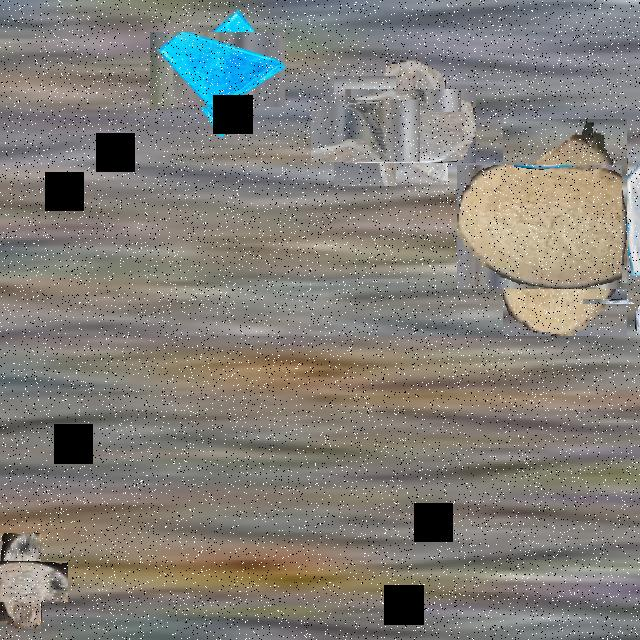glass: (165, 17, 271, 122), (358, 75, 462, 177), (622, 151, 640, 283)
metal: (322, 89, 408, 174), (608, 273, 640, 330)
wood: (479, 142, 640, 312), (0, 547, 54, 615)
